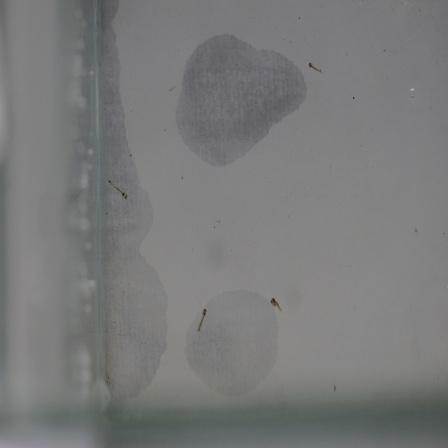Jentik-Nyamuk: (104, 174, 132, 203), (192, 303, 213, 337), (266, 290, 287, 317), (306, 57, 325, 76)
